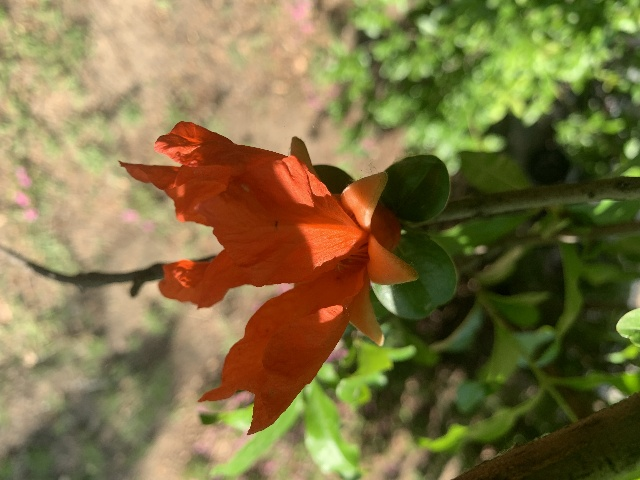flower: (113, 118, 415, 438)
